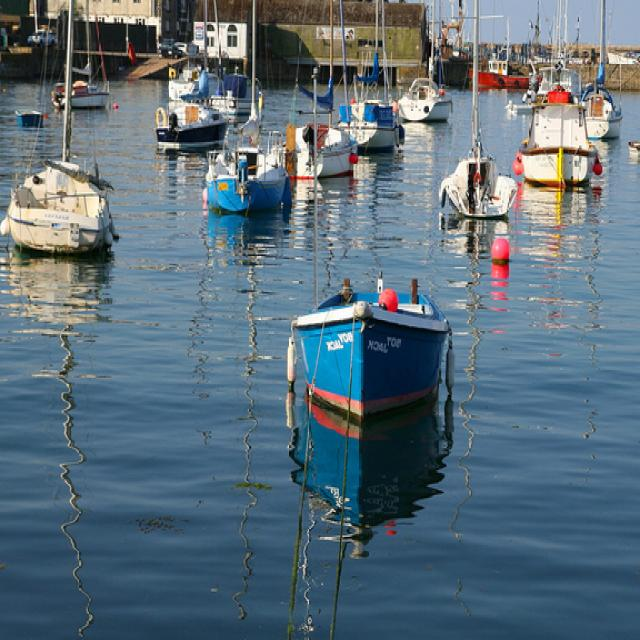buoy: (470, 227, 519, 278)
houseboat: (289, 253, 462, 413), (9, 144, 110, 268), (517, 89, 599, 201), (403, 69, 460, 125)
